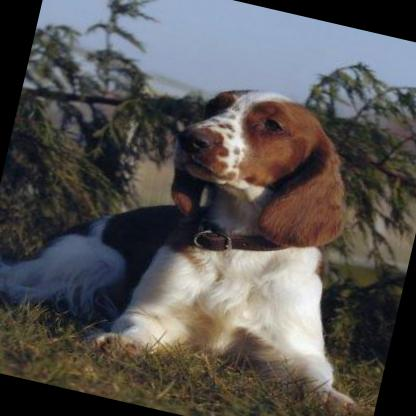Welsh_springer_spaniel: (0, 36, 416, 416)
